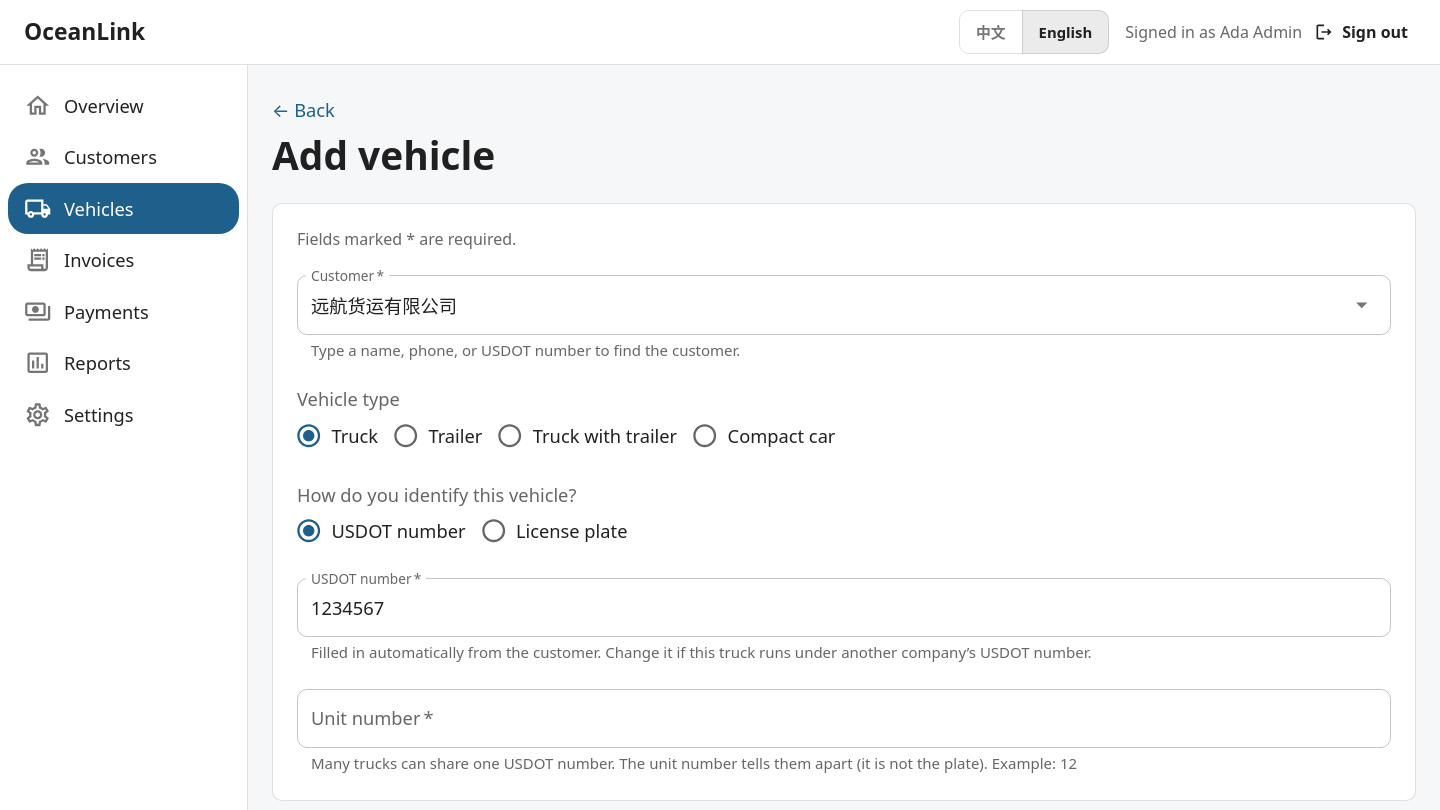
Test case: vehicle form: server messages › maps a code-only duplicate error onto its field
Expected: the heading "Add vehicle" is shown, [272,131,495,179]
In the field labelled "Unit number *": (844,719) [297,689,1391,748], type "88"
(page scrolled)
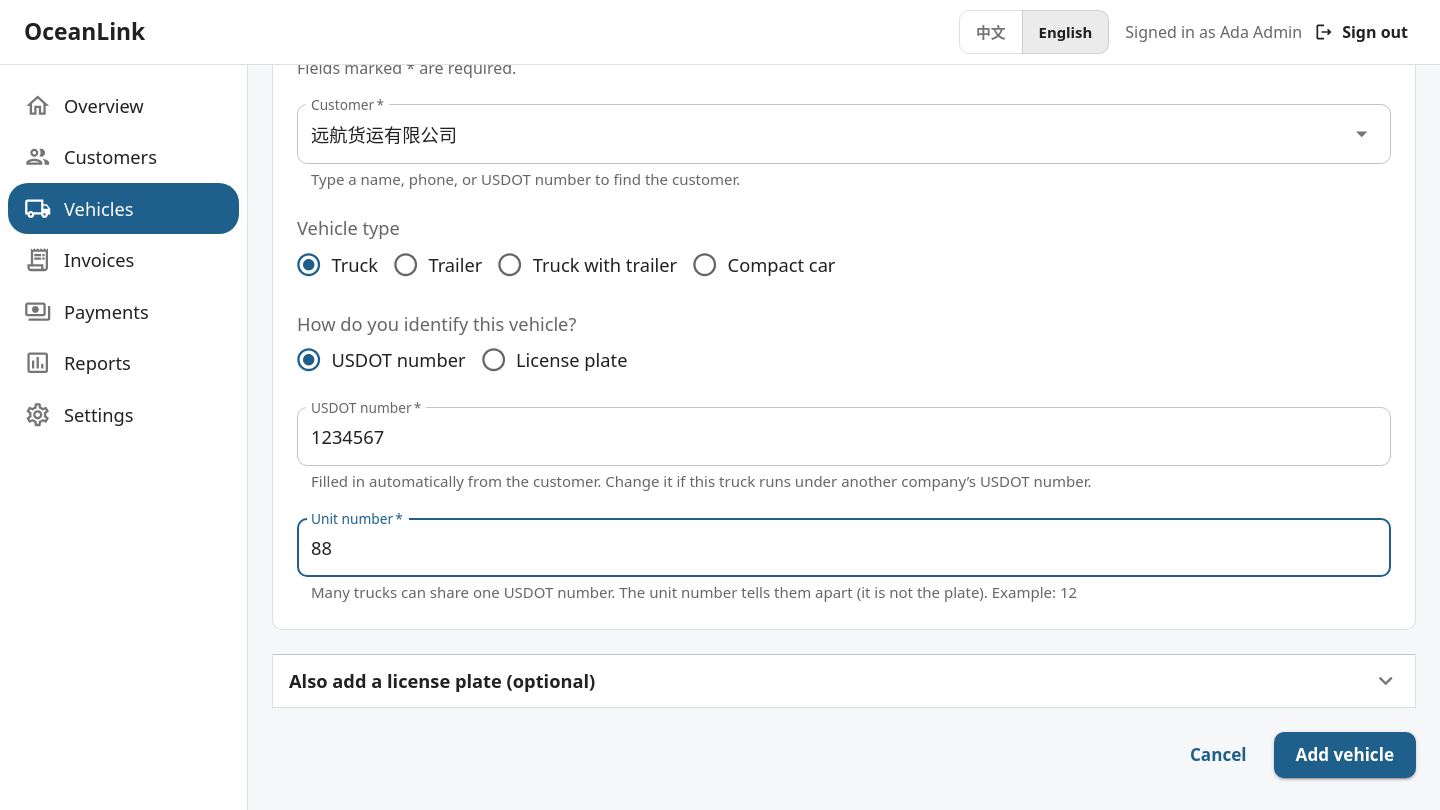
Click the button "Add vehicle": (1345,755) [1274,732,1416,778]
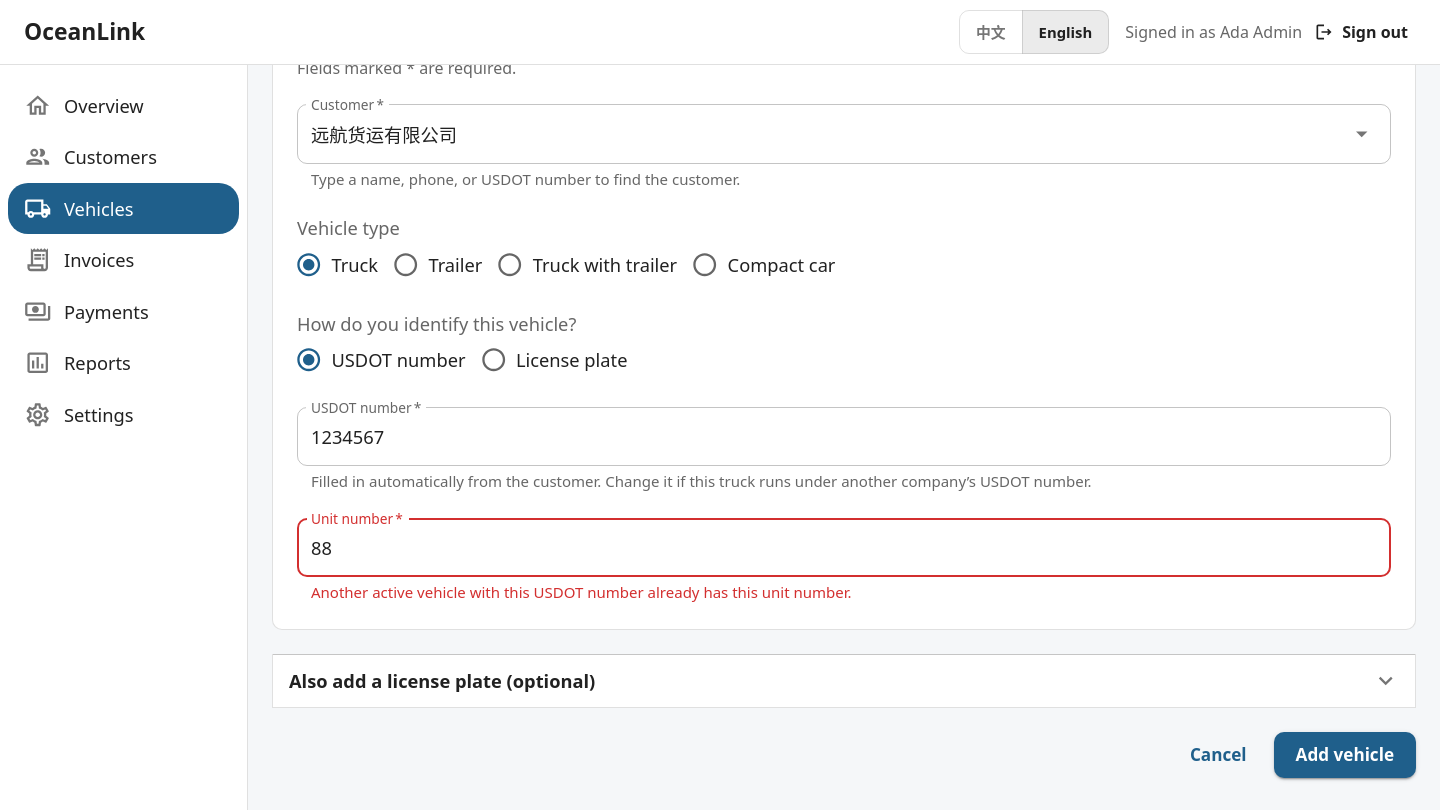
Now the text "Another active vehicle with this USDOT number already has this unit number." is shown, box [311,582,852,602]
